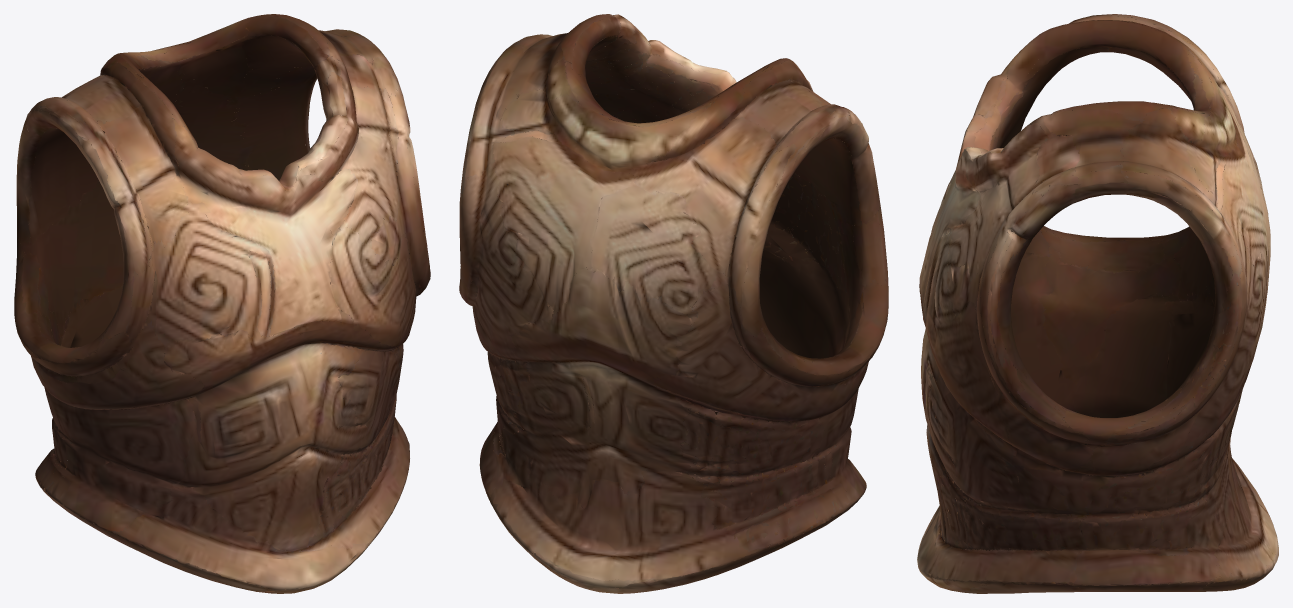
The model's file is peitoral_marajoara.glb.
3 views of the same model, side by side, from view 1: azimuth 30°, elevation 25°; view 2: azimuth 150°, elevation 25°; view 3: azimuth 270°, elevation 25° (orthographic). The views are drawn at different scales.
Visible parts, largest first — view 1: peitoral_marajoara; view 2: peitoral_marajoara; view 3: peitoral_marajoara.
Boxes of the visible parts, x1,y1,x2,y2 form: peitoral_marajoara: [14, 14, 430, 593]; peitoral_marajoara: [459, 14, 888, 593]; peitoral_marajoara: [917, 14, 1278, 593].
Bounding box in the file's own units: 0.1888 × 0.2369 × 0.1508.
1 material, 1 textured.
